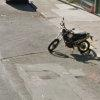Motorcycle: (42, 18, 95, 61)
